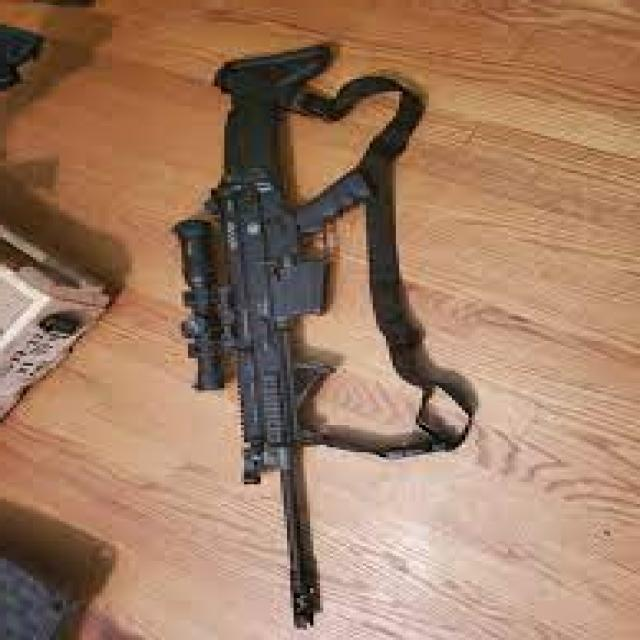Gun: (136, 48, 440, 632)
